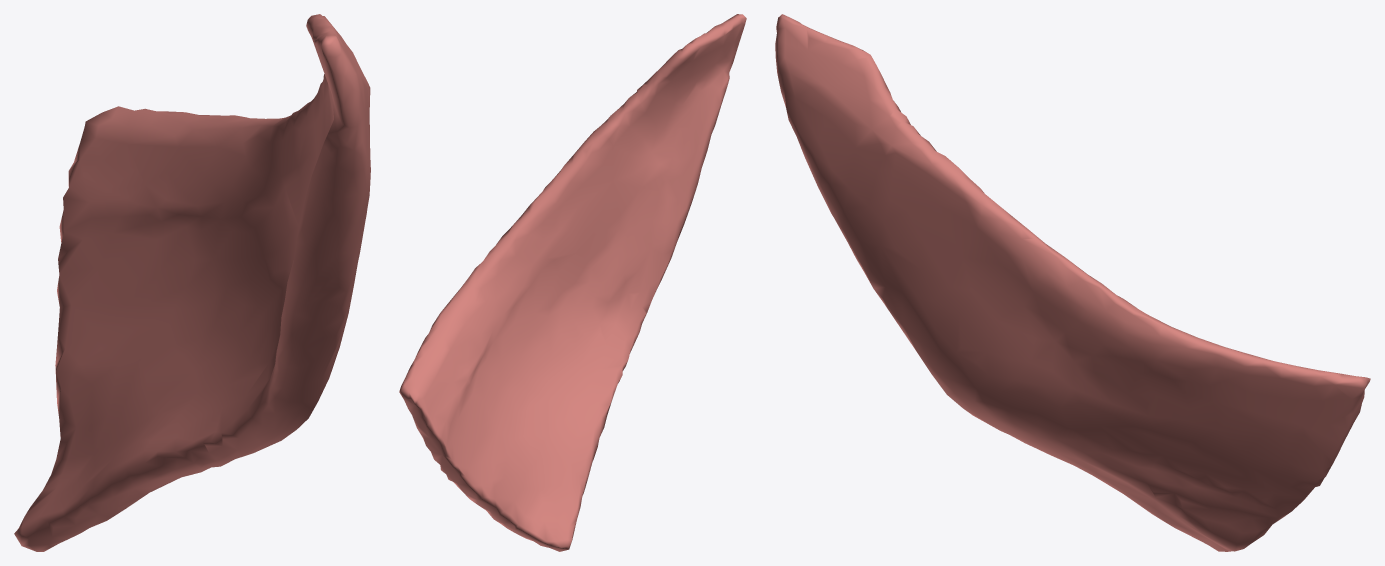
Rendered from fma46830_mm1120.glb.
3 views of the same model, side by side, from view 1: azimuth 30°, elevation 25°; view 2: azimuth 150°, elevation 25°; view 3: azimuth 270°, elevation 25° (orthographic). The views are drawn at different scales.
Parts seen in each view (by area): view 1: FMA46830_MM1120; view 2: FMA46830_MM1120; view 3: FMA46830_MM1120.
Boxes of the visible parts, x1,y1,x2,y2 form: FMA46830_MM1120: (14, 14, 370, 551); FMA46830_MM1120: (399, 14, 746, 551); FMA46830_MM1120: (775, 14, 1370, 551).
Size of the model in its own units: 0.00796 by 0.0235 by 0.0241.
